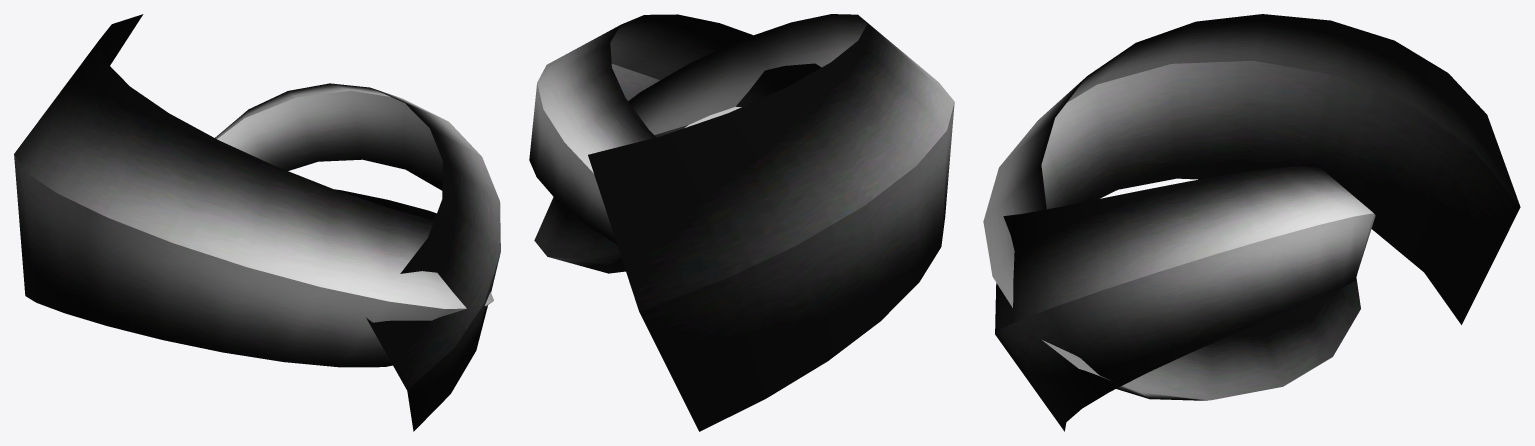
File: vfx_kurp_0242.dae
3 renders of one model, left to right at view 1: azimuth 30°, elevation 25°; view 2: azimuth 150°, elevation 25°; view 3: azimuth 270°, elevation 25°, orthographic. The views are drawn at different scales.
Visible parts, largest first — view 1: vfx_kurp_0242; view 2: vfx_kurp_0242; view 3: vfx_kurp_0242.
Boxes of the visible parts, left/top/right/bottom form: vfx_kurp_0242: left=14, top=14, right=500, bottom=431; vfx_kurp_0242: left=529, top=14, right=954, bottom=431; vfx_kurp_0242: left=983, top=14, right=1520, bottom=431.
Size of the model in its own units: 4.7 by 5.62 by 3.75.
1 material, 1 textured.
